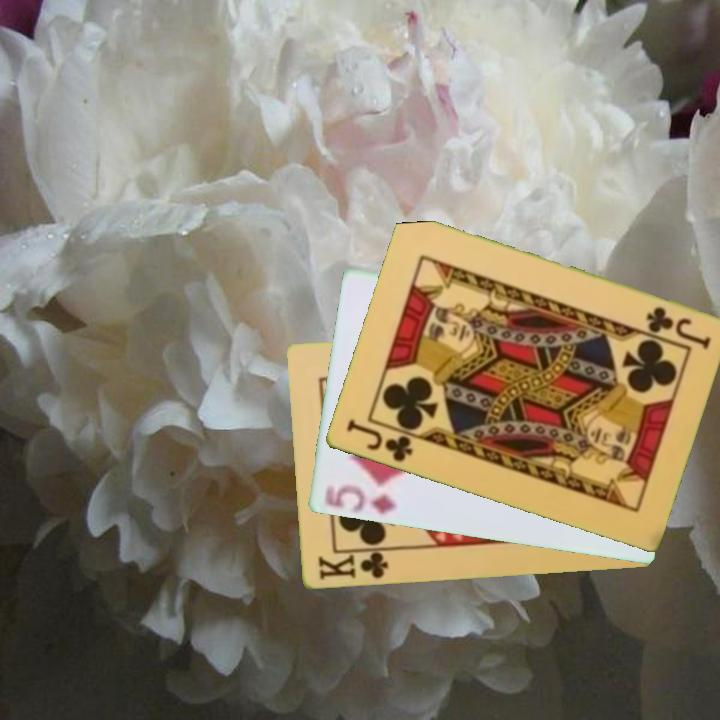5d: (320, 482, 400, 518)
Jc: (342, 416, 415, 465), (642, 303, 713, 351)
Kc: (315, 546, 393, 583)
